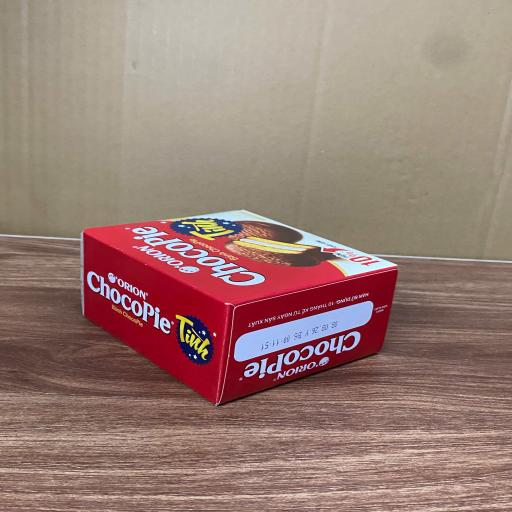chocopie: (83, 209, 396, 406)
